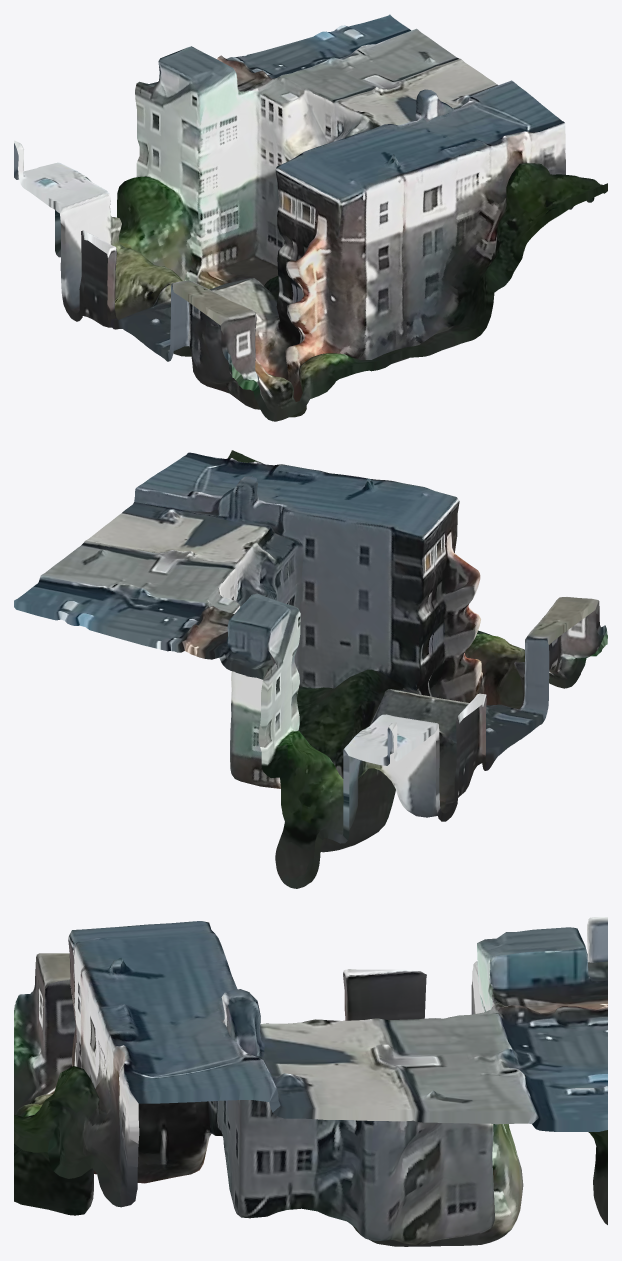
File: z20-167750-405195-h0-yup-uvflip-v3-world.glb
3 renders of one model, top to bottom at view 1: azimuth 30°, elevation 25°; view 2: azimuth 150°, elevation 25°; view 3: azimuth 270°, elevation 25°, orthographic. The views are drawn at different scales.
Size of the model in its own units: 30.2 by 20.4 by 30.32.
Materials: 1 (1 with a texture image).
